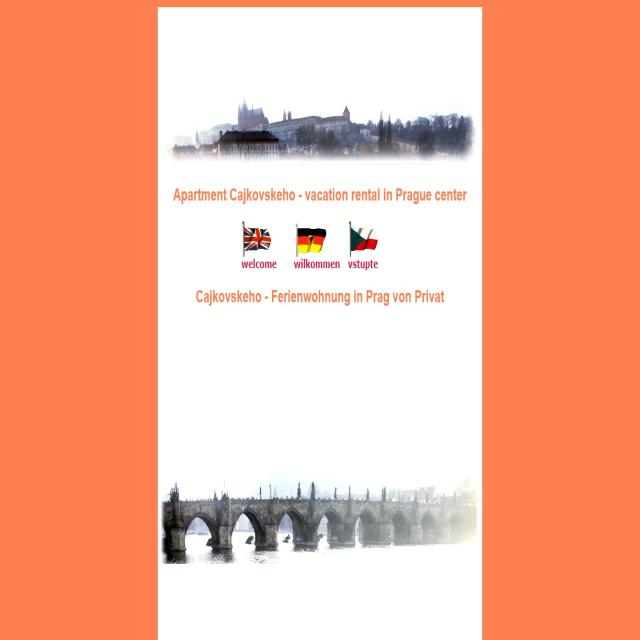image: (158, 465, 480, 574), (157, 74, 481, 164), (295, 220, 327, 260), (242, 219, 273, 256), (347, 222, 380, 254)
text: (172, 187, 468, 208), (196, 288, 450, 310), (293, 258, 341, 273), (240, 259, 278, 274), (346, 258, 381, 272)
